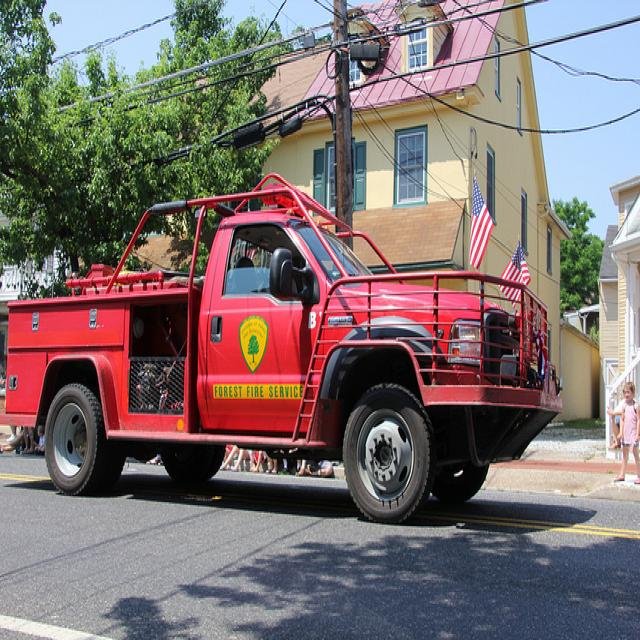Vehicle: (4, 172, 559, 528)
